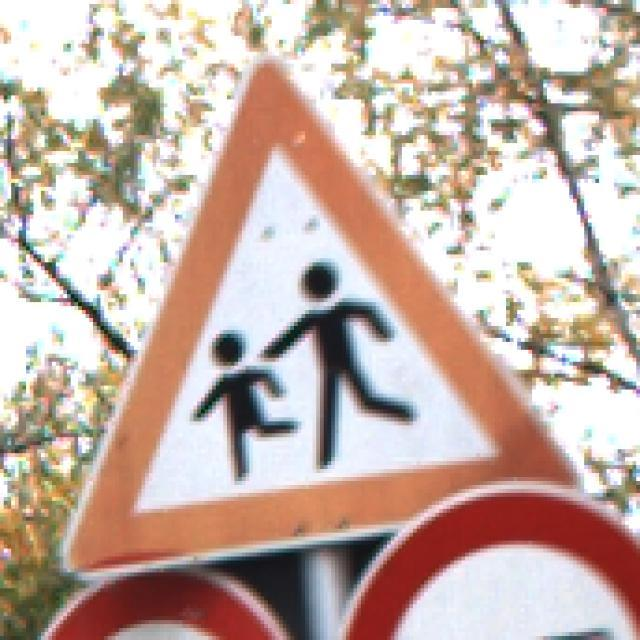school ahead: (66, 62, 574, 572)
